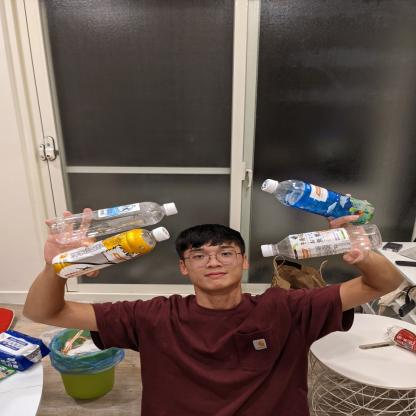Glass Bottle: (49, 226, 170, 282), (47, 200, 180, 246), (258, 178, 378, 226), (261, 224, 384, 262)
